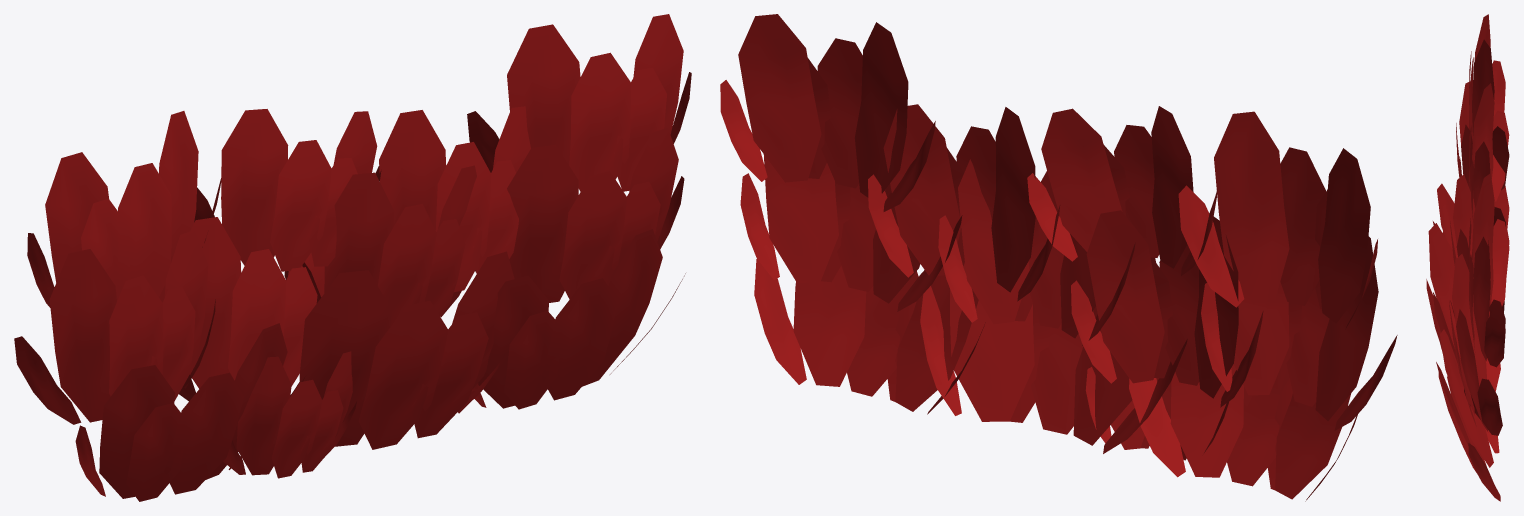
File: hedge_GrassWallWide01.fbx
3 renders of one model, left to right at view 1: azimuth 30°, elevation 25°; view 2: azimuth 150°, elevation 25°; view 3: azimuth 270°, elevation 25°, orthographic. The views are drawn at different scales.
Parts seen in each view (by area): view 1: hedgeGrass; view 2: hedgeGrass; view 3: hedgeGrass.
Boxes of the visible parts, x1,y1,x2,y2 form: hedgeGrass: [14, 14, 691, 501]; hedgeGrass: [720, 14, 1397, 501]; hedgeGrass: [1426, 14, 1509, 501].
Size of the model in its own units: 157 by 84.48 by 21.49.
